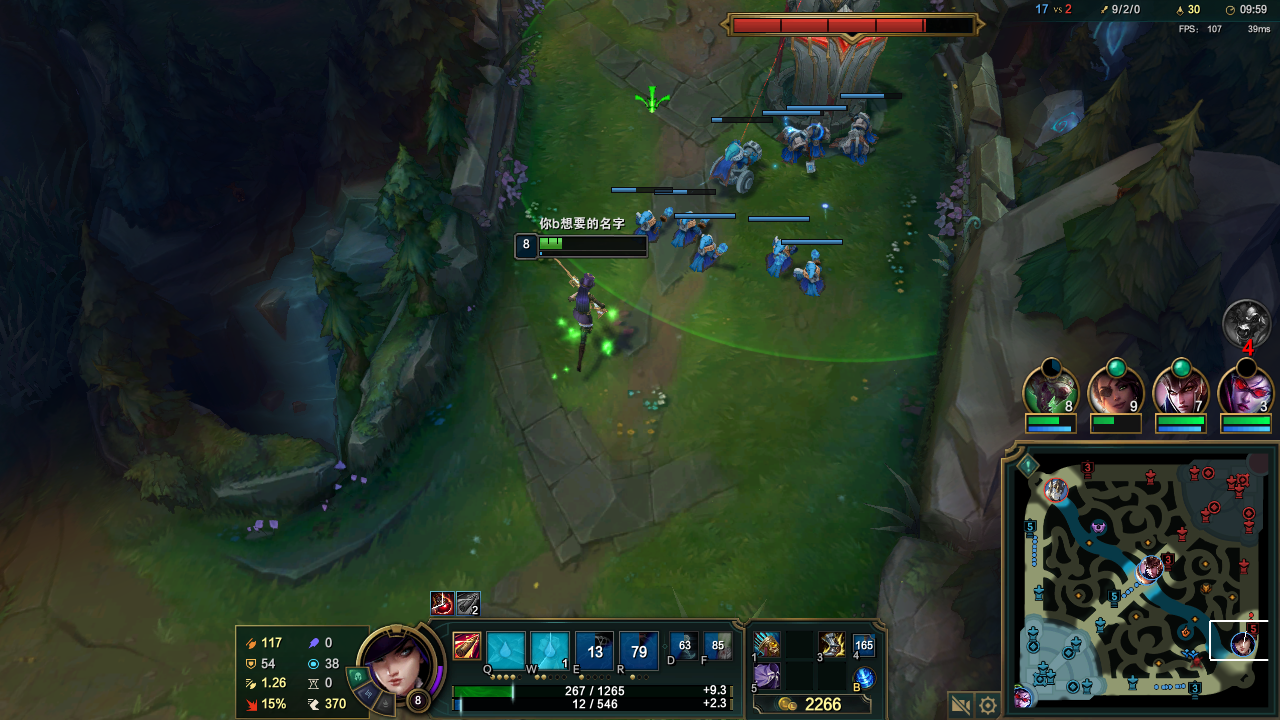DFFYT: (729, 20, 929, 138)
WFXB: (710, 143, 760, 183), (688, 235, 727, 274), (799, 257, 827, 298), (670, 209, 702, 242), (632, 209, 663, 243), (842, 113, 869, 151), (779, 125, 805, 160), (769, 235, 792, 274), (807, 123, 832, 154)
